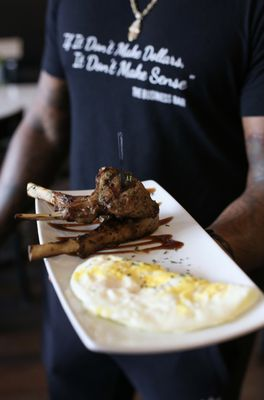sandwich: (68, 259, 261, 341)
